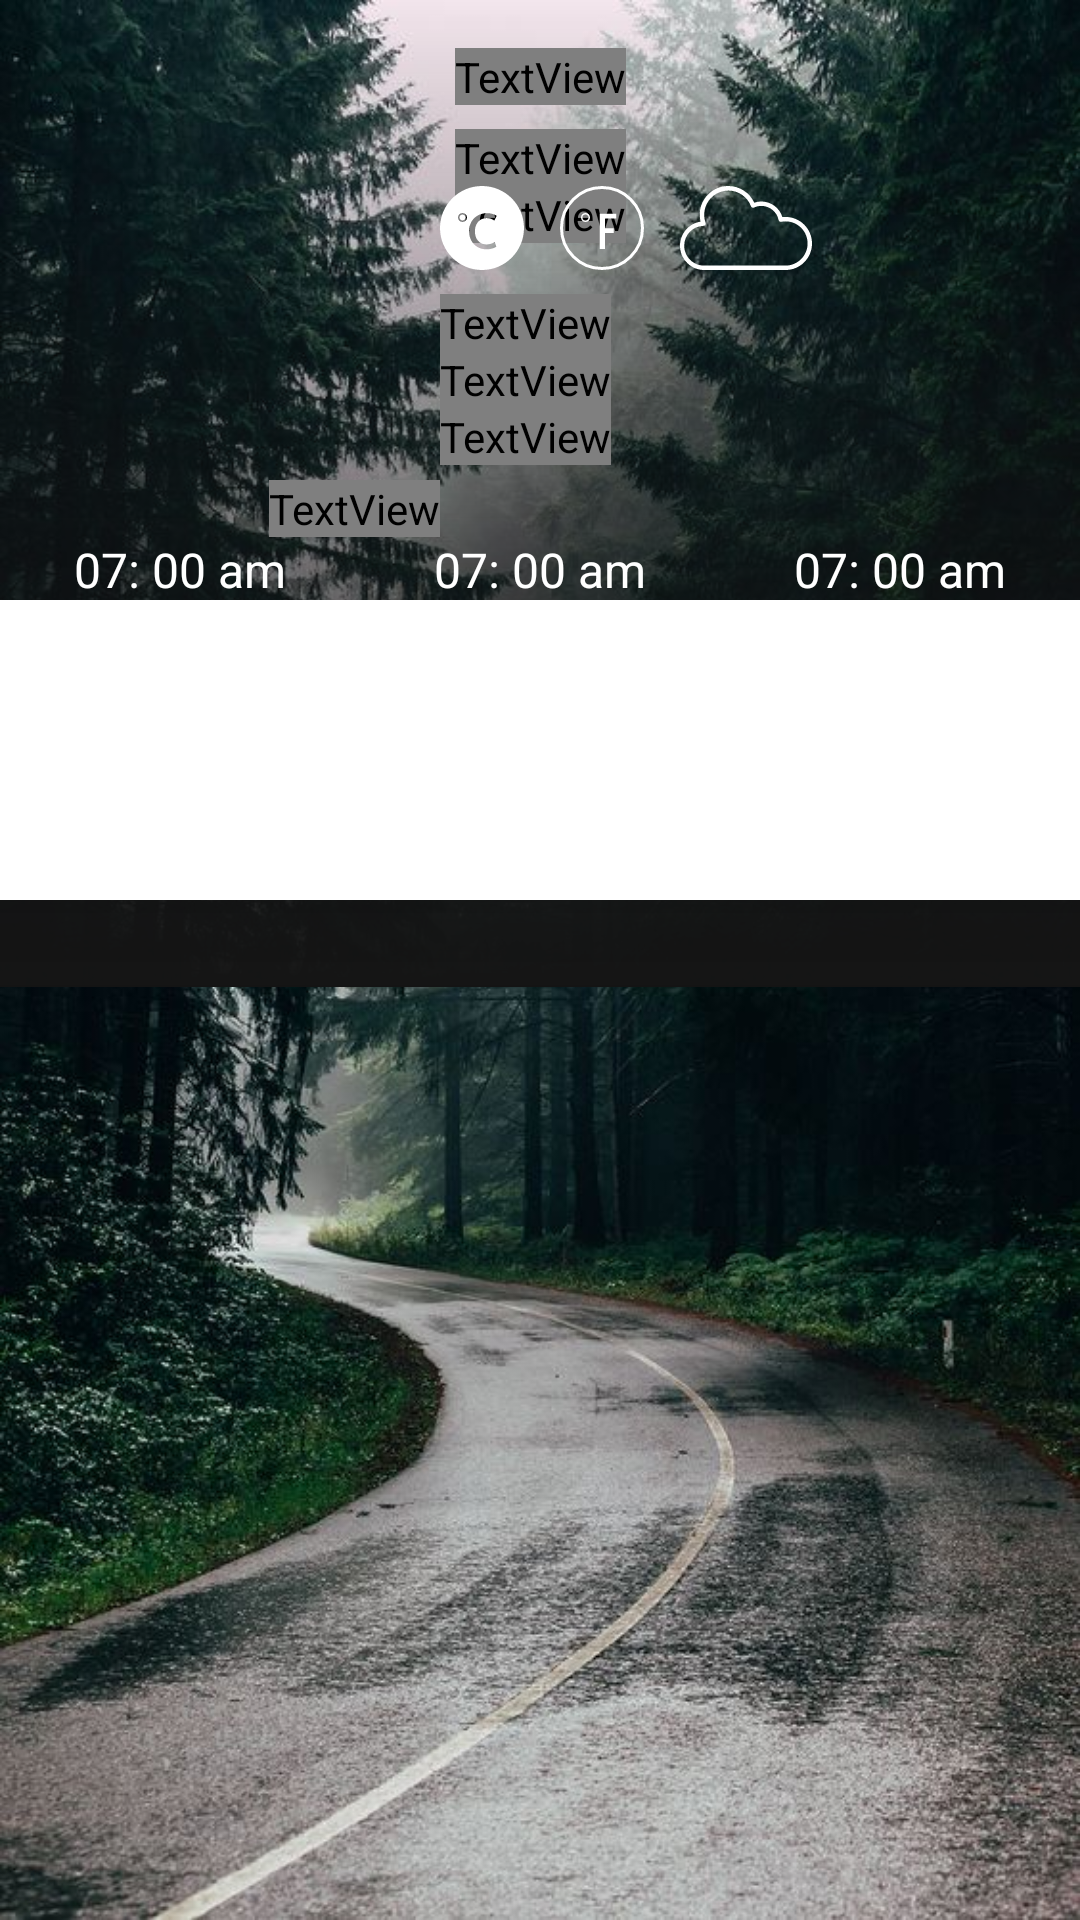

Where to tap for icons on this 1080w x 1920h app screen, as (x=x, y=y):
celsius select: (x=482, y=228)
cloudy: (x=746, y=228)
fahrenheit: (x=602, y=228)
